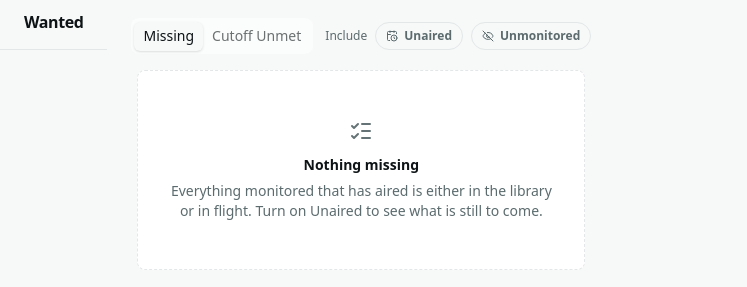
it: keeps a film's cutoff group from counting in episodes
Click the tab "Cutoff Unmet": point(257, 36) [203,22,310,50]
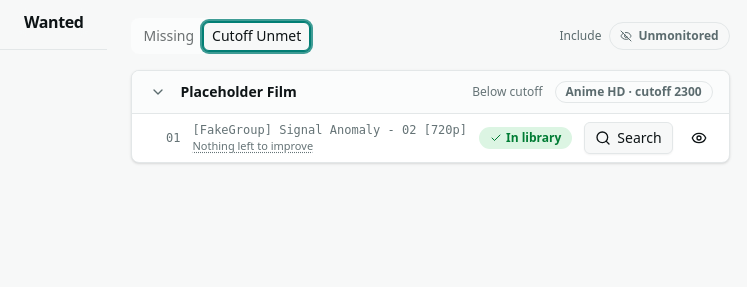
Expected: the text "Below cutoff" is shown, [472,84,543,100]
